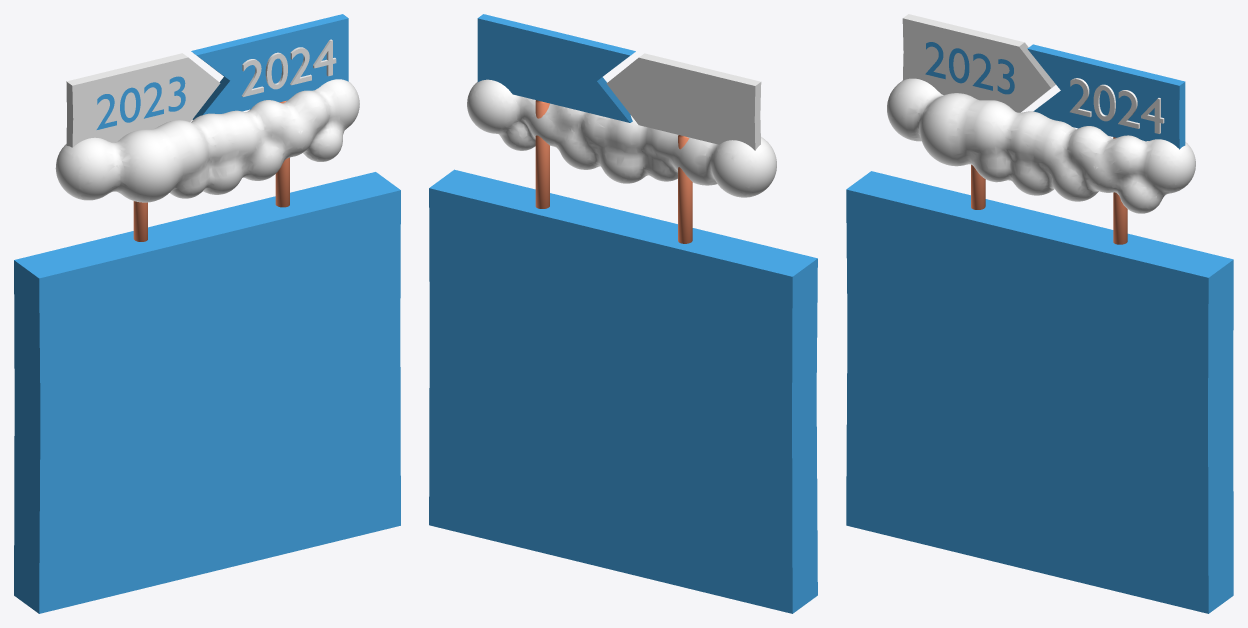
The picture shows the model from 3 angles, left to right: view 1: azimuth 30°, elevation 25°; view 2: azimuth 150°, elevation 25°; view 3: azimuth 330°, elevation 25°; orthographic projection.
Visible parts, largest first — view 1: Cube.008, Mball.020, Cube.001, Cube.005, Text.012, Text.013, Cylinder.001, Cylinder; view 2: Cube.008, Mball.020, Cube.001, Cube.005, Cylinder.001, Cylinder; view 3: Cube.008, Mball.020, Cube.001, Cube.005, Text.012, Text.013, Cylinder.001, Cylinder.
Part boxes in pixels (<box>): Cube.008: <box>14,172,400,613</box>; Mball.020: <box>55,79,359,202</box>; Cube.001: <box>191,14,348,119</box>; Cube.005: <box>66,53,220,147</box>; Text.012: <box>242,39,336,96</box>; Text.013: <box>96,76,185,129</box>; Cylinder.001: <box>275,100,289,207</box>; Cylinder: <box>133,201,147,241</box>; Cube.008: <box>429,169,817,613</box>; Mball.020: <box>467,79,776,197</box>; Cube.001: <box>477,14,635,122</box>; Cube.005: <box>606,53,761,150</box>; Cylinder.001: <box>535,100,549,208</box>; Cylinder: <box>678,135,692,243</box>; Cube.008: <box>846,171,1233,613</box>; Mball.020: <box>887,78,1195,213</box>; Cube.001: <box>1027,44,1185,149</box>; Cube.005: <box>902,14,1055,112</box>; Text.012: <box>1070,78,1164,133</box>; Text.013: <box>925,42,1014,94</box>; Cylinder.001: <box>1113,137,1127,244</box>; Cylinder: <box>971,164,985,209</box>.
Size of the model in its own units: 11.27 by 15.14 by 2.42.
